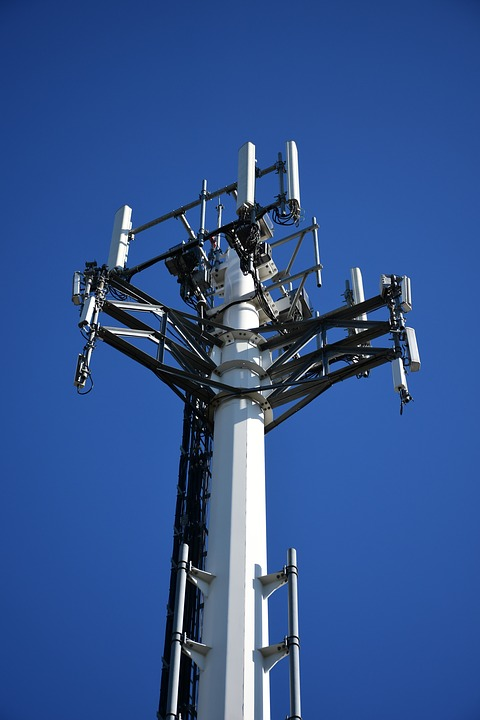a: (105, 202, 140, 280), (232, 141, 261, 212), (284, 139, 306, 218), (398, 324, 428, 369), (389, 355, 415, 405), (75, 298, 107, 332), (401, 275, 415, 312)
